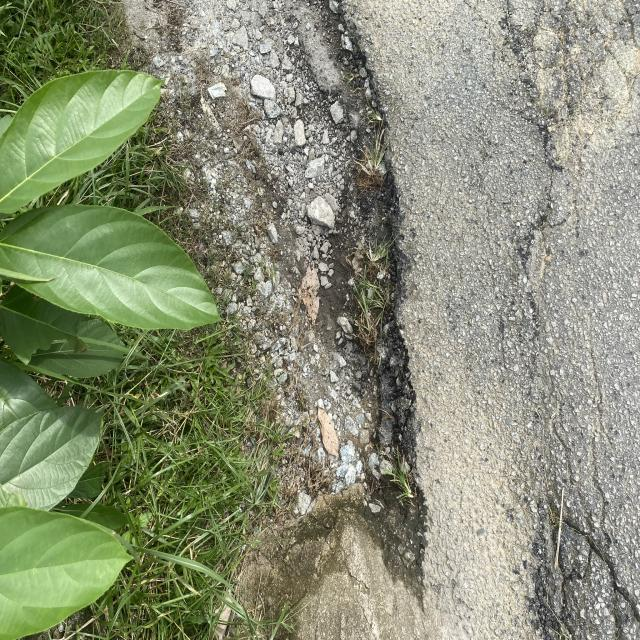pothole: (262, 0, 475, 585)
